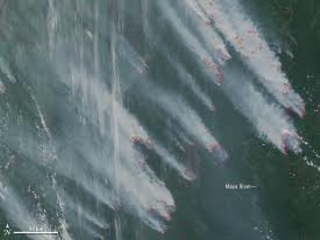fire: (279, 131, 303, 162)
smoke: (225, 80, 290, 140)
